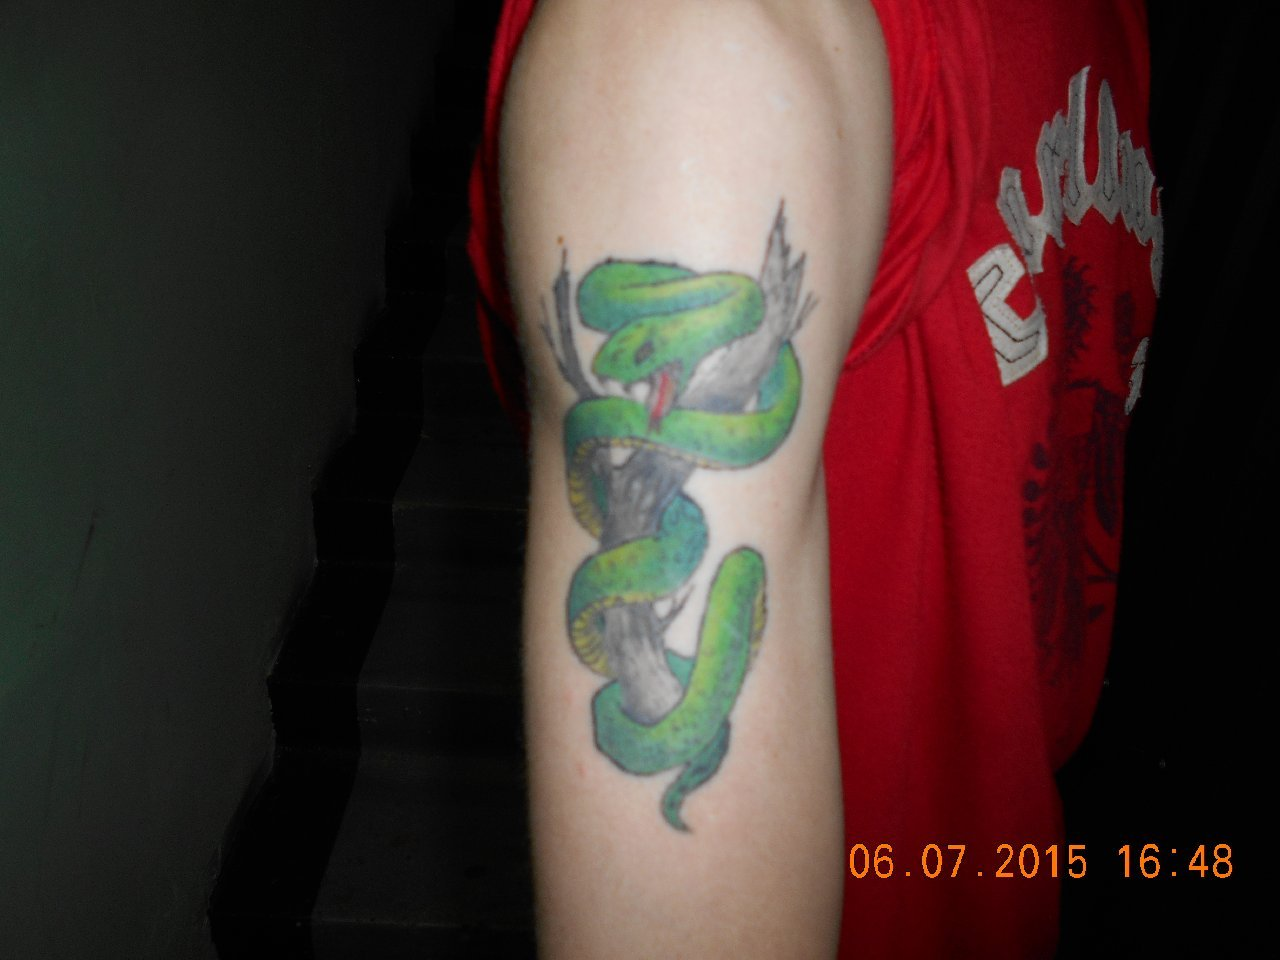tatu7_zmeya: (500, 203, 864, 886)
